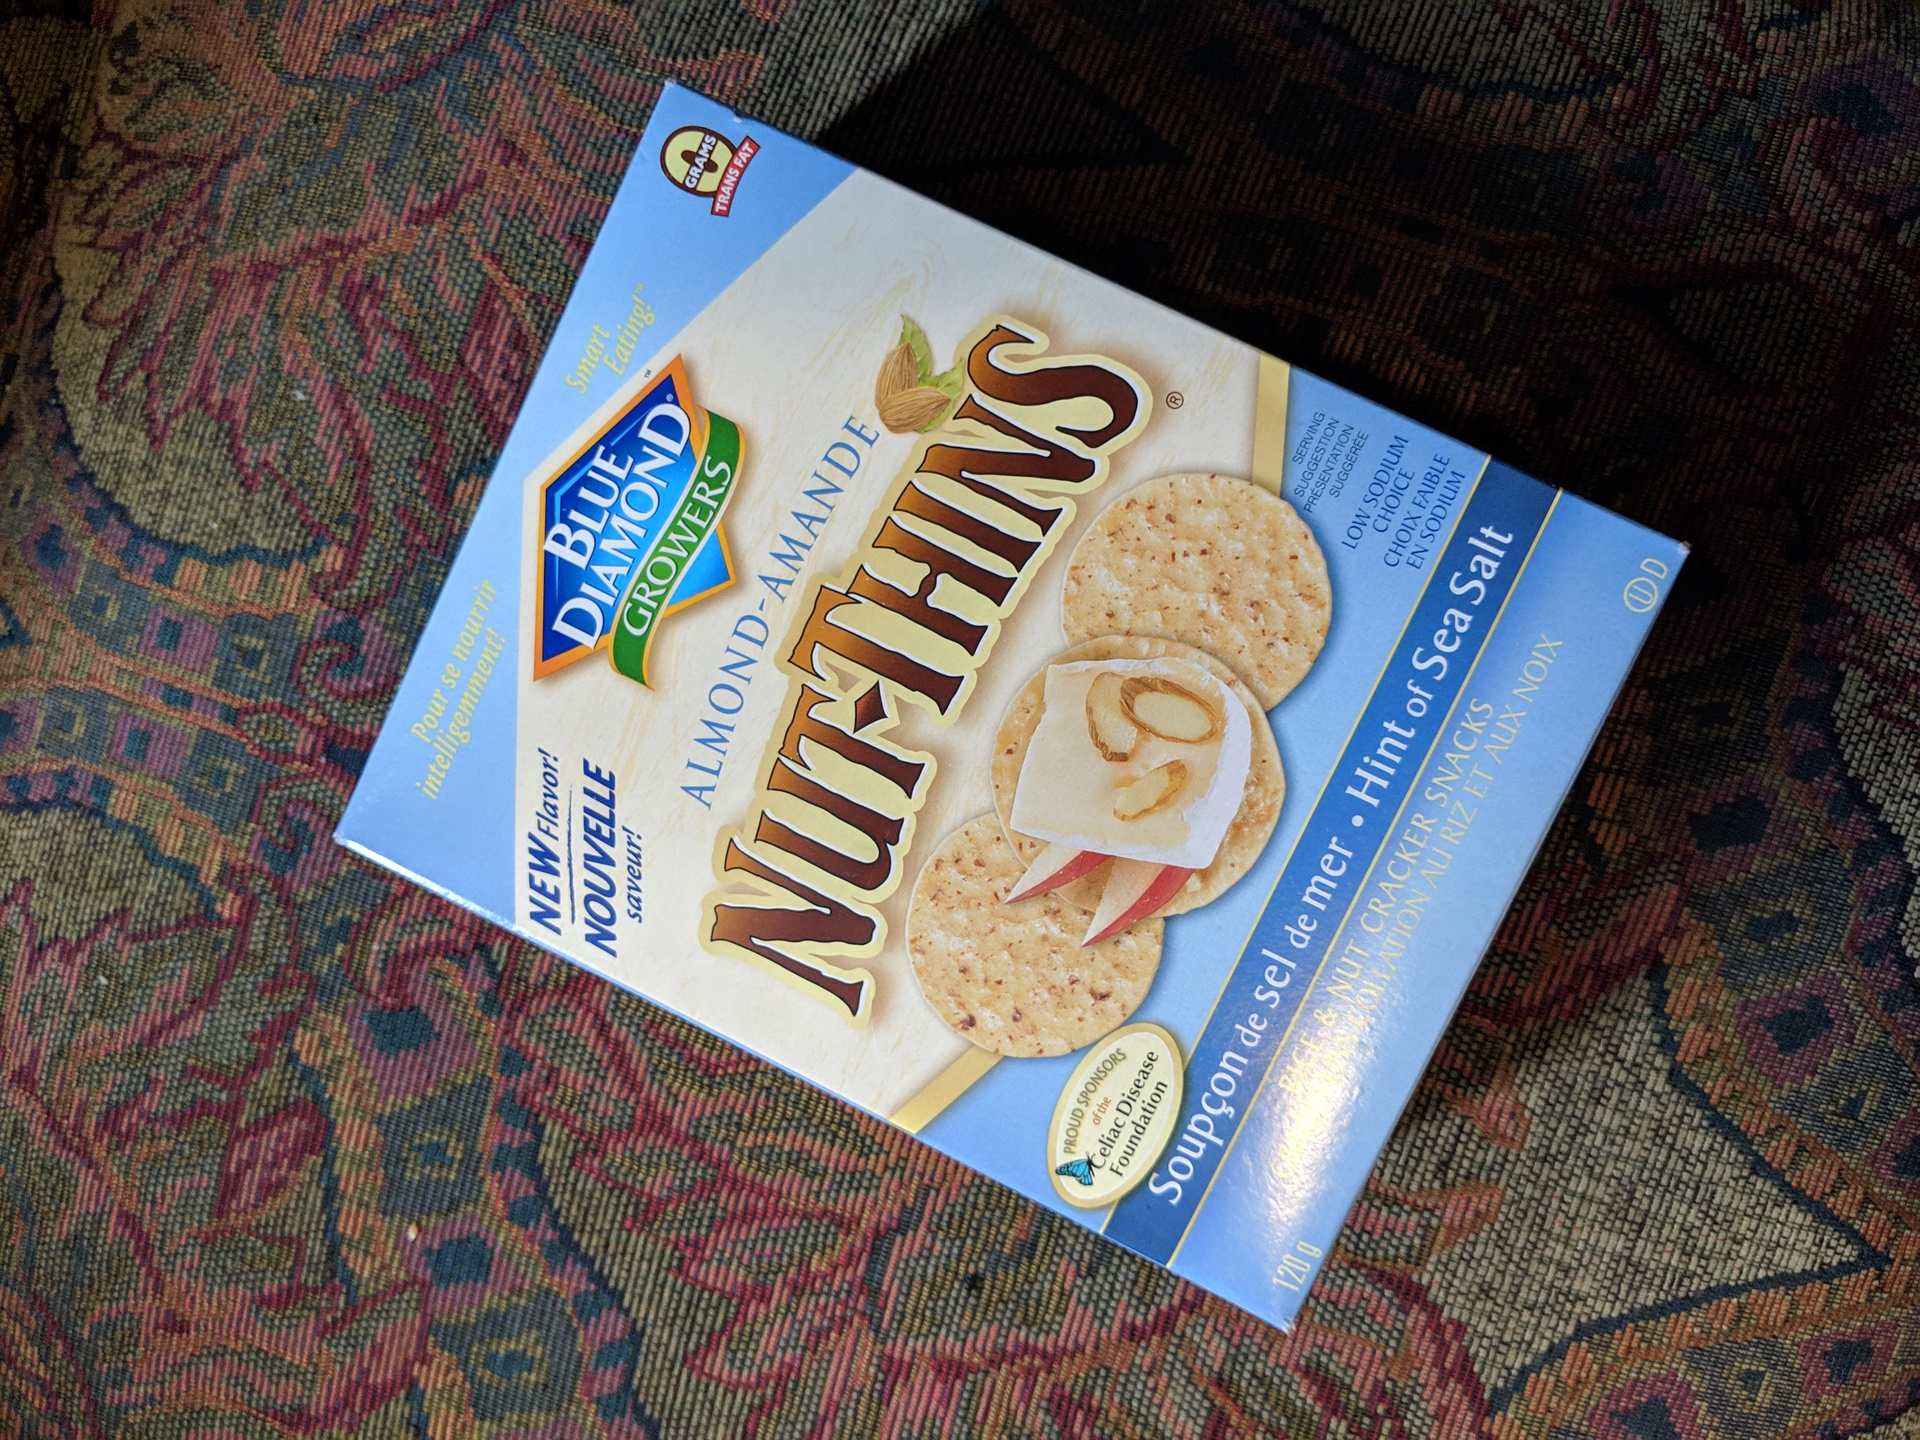blue_diamond_nut_thins_almond_seasalt: (437, 186, 1599, 1144)
